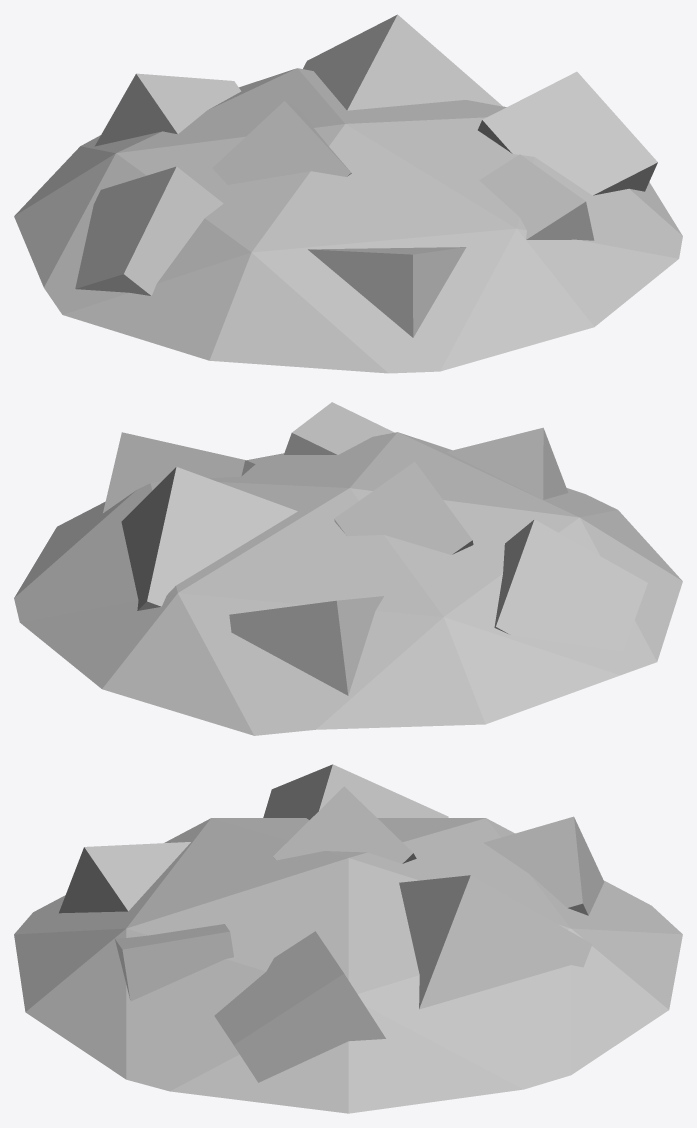
File: SaltPileBag.fbx
The picture shows the model from 3 angles, top to bottom: view 1: azimuth 30°, elevation 25°; view 2: azimuth 150°, elevation 25°; view 3: azimuth 270°, elevation 25°; orthographic projection.
Visible parts, largest first — view 1: SaltPileBag; view 2: SaltPileBag; view 3: SaltPileBag.
Boxes of the visible parts, x1=… form: SaltPileBag: x1=14, y1=14, x2=682, y2=373; SaltPileBag: x1=14, y1=402, x2=682, y2=735; SaltPileBag: x1=14, y1=764, x2=682, y2=1113.
Bounding box in the file's own units: 35.3 × 8.66 × 34.38.
